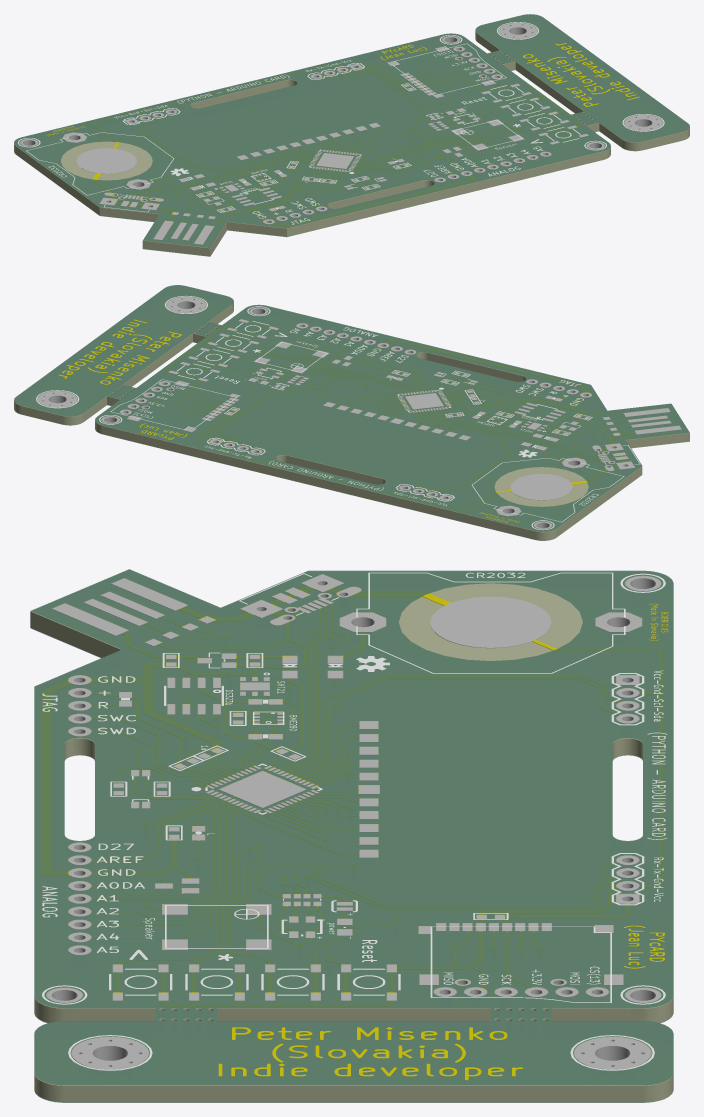
The model's file is pycard-jean-luc-python-arduino-in-a-card-shape.glb.
The picture shows the model from 3 angles, top to bottom: view 1: azimuth 30°, elevation 25°; view 2: azimuth 150°, elevation 25°; view 3: azimuth 270°, elevation 25°; orthographic projection. The views are drawn at different scales.
Parts seen in each view (by area): view 1: =>[0:1:1:7], =>[0:1:1:9], =>[0:1:1:2], =>[0:1:1:5]; view 2: =>[0:1:1:7], =>[0:1:1:9], =>[0:1:1:2], =>[0:1:1:5]; view 3: =>[0:1:1:7], =>[0:1:1:9], =>[0:1:1:2], =>[0:1:1:5].
Boxes of the visible parts, bbox=[...] form: =>[0:1:1:7]: bbox=[14, 14, 689, 256]; =>[0:1:1:9]: bbox=[14, 15, 689, 256]; =>[0:1:1:2]: bbox=[20, 23, 662, 244]; =>[0:1:1:5]: bbox=[18, 22, 664, 224]; =>[0:1:1:7]: bbox=[14, 285, 689, 540]; =>[0:1:1:9]: bbox=[14, 286, 689, 540]; =>[0:1:1:2]: bbox=[38, 296, 681, 529]; =>[0:1:1:5]: bbox=[36, 295, 640, 530]; =>[0:1:1:7]: bbox=[31, 569, 673, 1102]; =>[0:1:1:9]: bbox=[30, 570, 673, 1102]; =>[0:1:1:2]: bbox=[42, 574, 668, 1080]; =>[0:1:1:5]: bbox=[42, 572, 667, 1070].
Bounding box in the file's own units: 0.1019 × 0.00166 × 0.0537.
4 materials, 4 textured.
